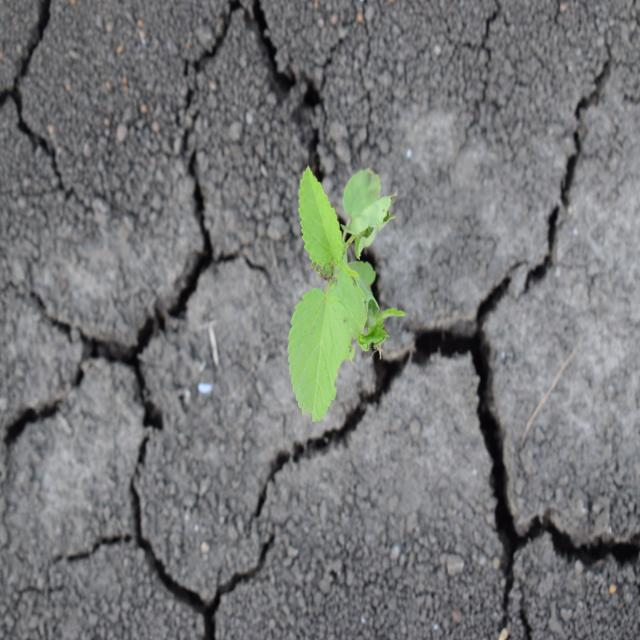PricklySida: (287, 163, 408, 426)
